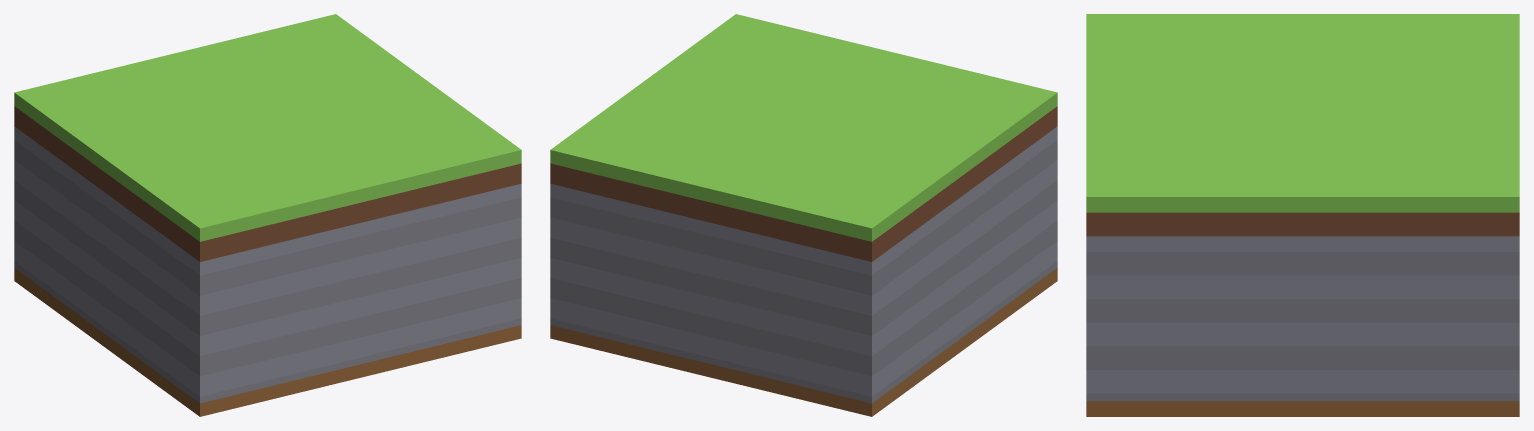
Rendered from plateau_grass_l1_b.glb.
The picture shows the model from 3 angles, left to right: view 1: azimuth 30°, elevation 25°; view 2: azimuth 150°, elevation 25°; view 3: azimuth 270°, elevation 25°; orthographic projection. The views are drawn at different scales.
Visible parts, largest first — view 1: model_0; view 2: model_0; view 3: model_0.
Part boxes in pixels (x1,y1,x2,y2): model_0: (14,14,521,416); model_0: (550,14,1057,416); model_0: (1086,14,1519,416).
Bounding box in the file's own units: 2 × 1.12 × 2.
